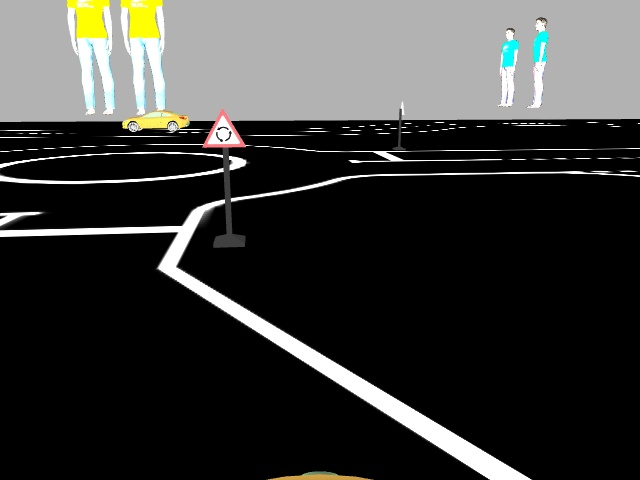Roundabout: (201, 108, 247, 146)
